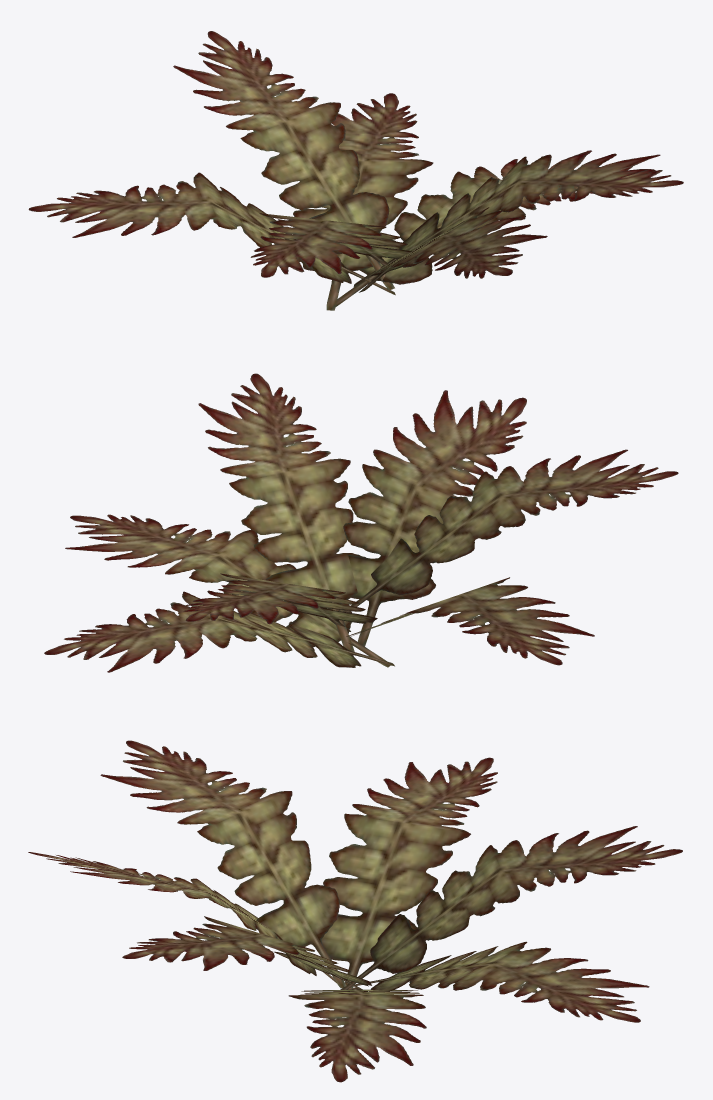
Rendered from S_Plant_Yellow024_1.FBX.
3 renders of one model, top to bottom at view 1: azimuth 30°, elevation 25°; view 2: azimuth 150°, elevation 25°; view 3: azimuth 270°, elevation 25°, orthographic. The views are drawn at different scales.
Parts seen in each view (by area): view 1: S_Plant_Yellow024_1; view 2: S_Plant_Yellow024_1; view 3: S_Plant_Yellow024_1.
Part boxes in pixels (x1=…): S_Plant_Yellow024_1: x1=28, y1=31, x2=683, y2=310; S_Plant_Yellow024_1: x1=44, y1=373, x2=678, y2=672; S_Plant_Yellow024_1: x1=28, y1=740, x2=682, y2=1082.
Bounding box in the file's own units: 327 × 316 × 85.55.
